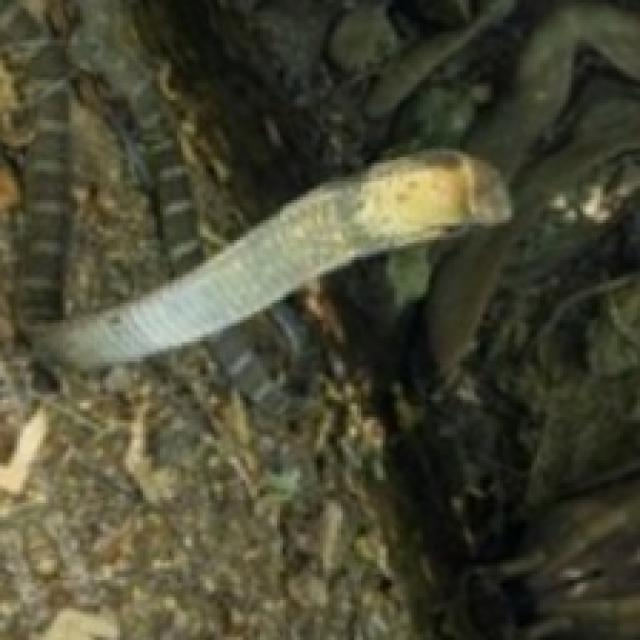king cobra: (37, 151, 509, 366)
